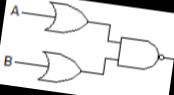nand: (112, 31, 168, 76)
or: (34, 46, 88, 88), (42, 0, 94, 37)
